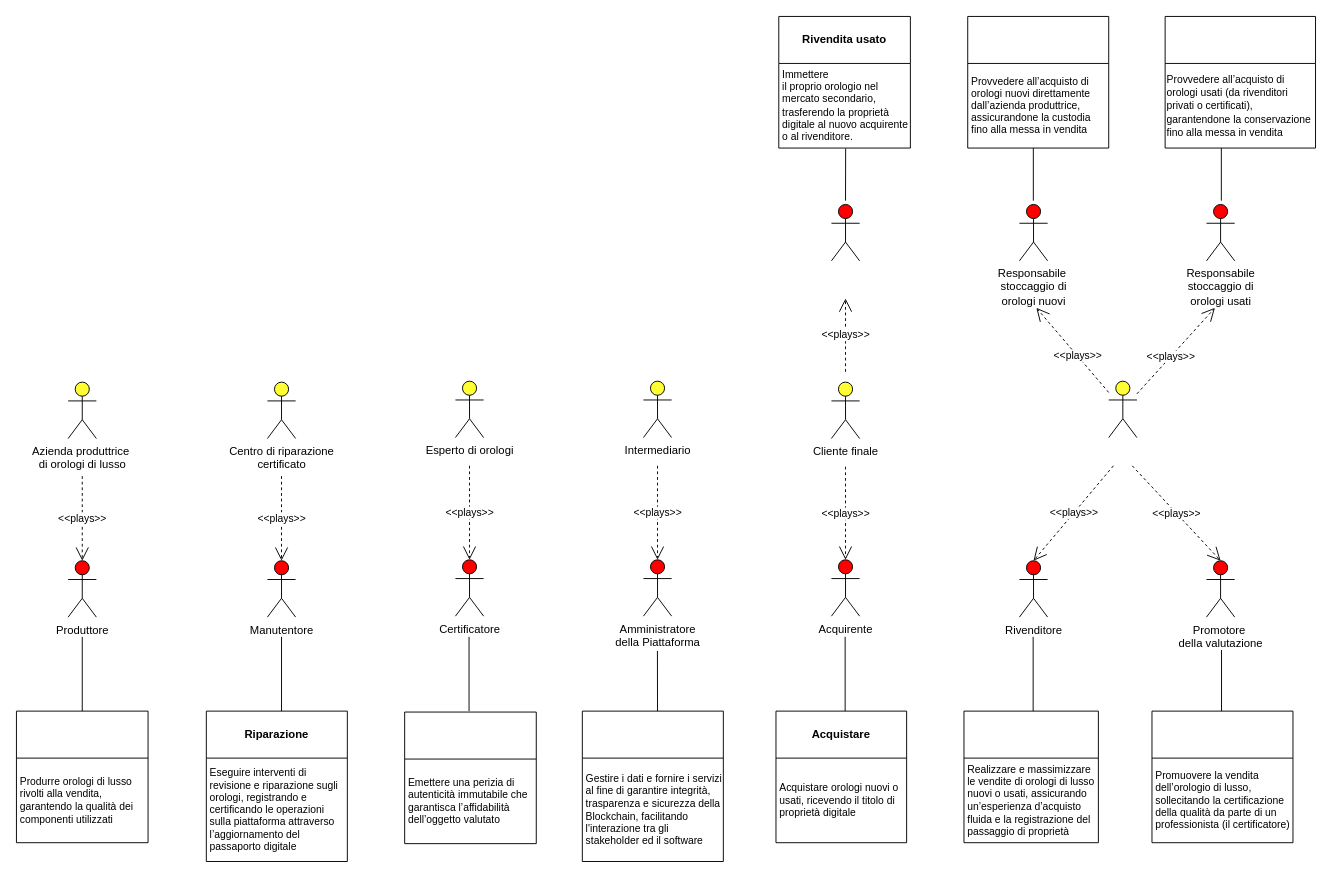
The diagram is 1332 pixels wide and 878 high, and some of its shapes have lost their labels. Each missing label, with the box of its shape:
Approvigionamento orologi nuovi: (967, 16, 1109, 148)
Approvigionamento orologi usati: (1164, 16, 1316, 148)
Certificare: (404, 711, 536, 844)
Gestione: (581, 710, 723, 862)
Produzione: (16, 710, 148, 843)
Richiedere certificazione: (1151, 710, 1293, 843)
Rivenditore di orologi usati: (830, 204, 860, 261)
Vendita orologi nuovi o usati: (963, 710, 1098, 843)
Venditore: (1108, 380, 1137, 438)
